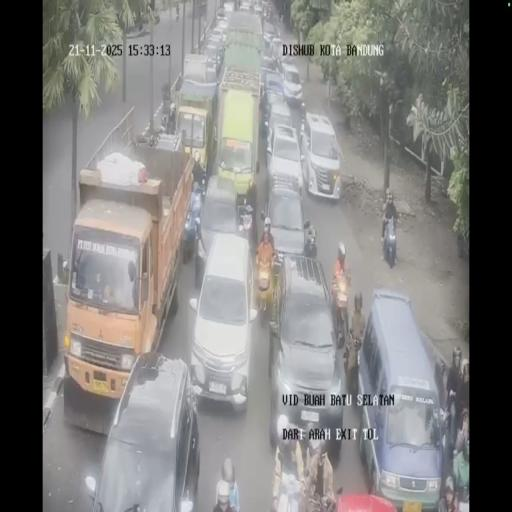car: (357, 292, 444, 507), (88, 352, 200, 508), (268, 258, 342, 452), (198, 174, 242, 267), (301, 113, 342, 203), (264, 186, 306, 261), (266, 120, 304, 197), (261, 78, 287, 134), (280, 60, 304, 107), (202, 42, 224, 77), (262, 22, 279, 50), (260, 50, 278, 75), (216, 3, 228, 20), (240, 0, 252, 12), (254, 1, 262, 14)
motorcycle: (332, 274, 352, 346), (255, 260, 274, 320), (237, 202, 255, 256), (381, 212, 398, 268), (160, 87, 174, 131), (263, 4, 270, 20)
truck: (214, 76, 262, 206), (172, 58, 218, 180), (222, 7, 264, 80)
